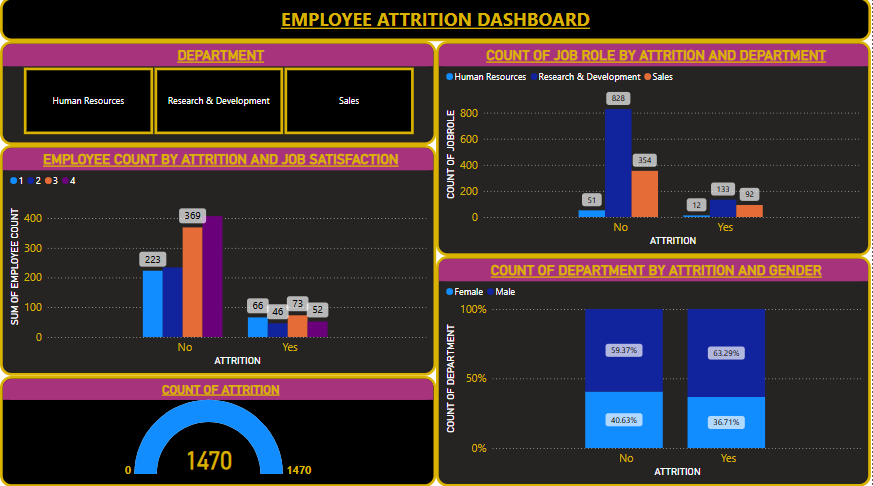

The dashboard page shown, as its layout file describes it:
{"tool":"powerbi","page":{"name":"DASHBOARD","canvas":[1280,720],"ordinal":0},"visuals":[{"type":"gauge","title":"COUNT OF ATTRITION","fields":{"Y":["CountNonNull(EMP_ATTRITION.Attrition)"]},"box":[0,556.9,640.7,163.1],"z":0},{"type":"clusteredColumnChart","title":"COUNT OF JOB ROLE BY ATTRITION AND DEPARTMENT","fields":{"Category":["EMP_ATTRITION.Attrition"],"Series":["EMP_ATTRITION.Department"],"Y":["CountNonNull(EMP_ATTRITION.JobRole)"]},"box":[640.7,64.7,639.2,315.9],"z":1000},{"type":"hundredPercentStackedColumnChart","title":"COUNT OF DEPARTMENT BY ATTRITION AND GENDER","fields":{"Category":["EMP_ATTRITION.Attrition"],"Y":["CountNonNull(EMP_ATTRITION.Department)"],"Series":["EMP_ATTRITION.Gender"]},"box":[640.7,380.6,639.2,339.4],"z":2000},{"type":"slicer","title":"DEPARTMENT","fields":{"Values":["EMP_ATTRITION.Department"]},"box":[0,64.7,640.7,152.8],"z":3000},{"type":"textbox","box":[0,0,1279.8,64.7],"z":4000},{"type":"clusteredColumnChart","title":"EMPLOYEE COUNT BY ATTRITION AND JOB SATISFACTION","fields":{"Y":["Sum(EMP_ATTRITION.EmployeeCount)"],"Category":["EMP_ATTRITION.Attrition"],"Series":["EMP_ATTRITION.JobSatisfaction"]},"box":[0,217.5,640.7,339.4],"z":5000}]}

Visuals, with their boxes in screenshot pixels (x1, y1, x2, y2), scaled from the page's 1280x720 canvas onto the 873x486 screenshot:
"COUNT OF ATTRITION" gauge: x1=0 y1=376 x2=437 y2=485
"COUNT OF JOB ROLE BY ATTRITION AND DEPARTMENT" clusteredColumnChart: x1=437 y1=44 x2=872 y2=257
"COUNT OF DEPARTMENT BY ATTRITION AND GENDER" hundredPercentStackedColumnChart: x1=437 y1=257 x2=872 y2=485
"DEPARTMENT" slicer: x1=0 y1=44 x2=437 y2=147
textbox: x1=0 y1=0 x2=872 y2=44
"EMPLOYEE COUNT BY ATTRITION AND JOB SATISFACTION" clusteredColumnChart: x1=0 y1=147 x2=437 y2=376
